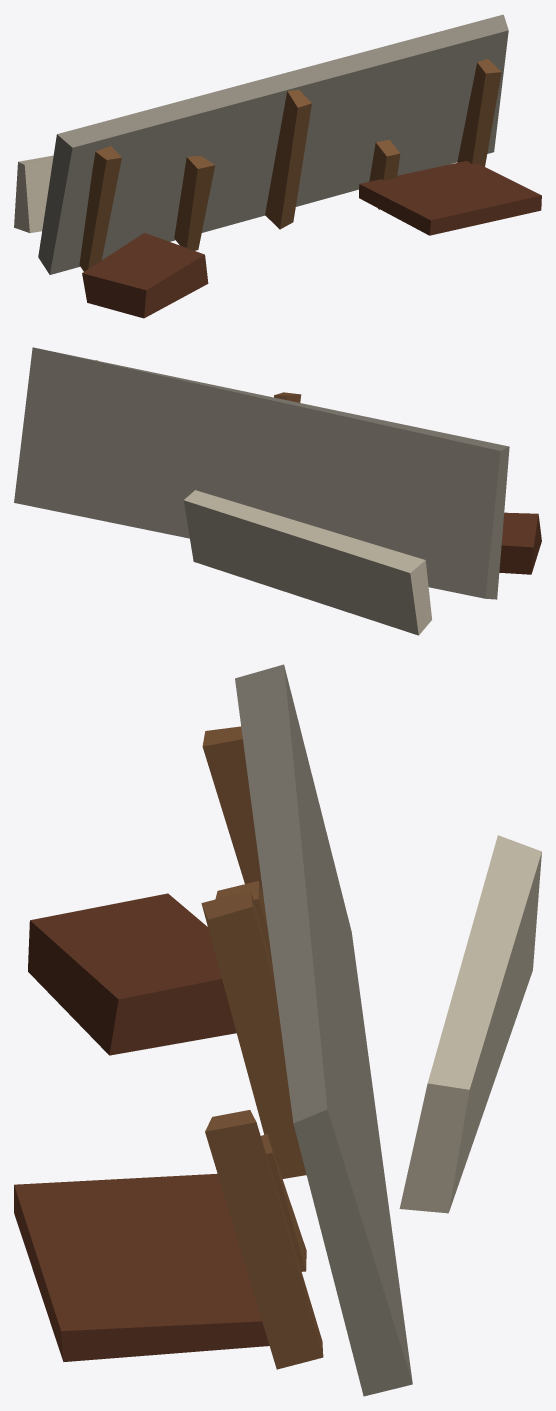
File: hull_chunk.glb
3 views of the same model, one above another, from view 1: azimuth 30°, elevation 25°; view 2: azimuth 150°, elevation 25°; view 3: azimuth 270°, elevation 25° (orthographic). The views are drawn at different scales.
Visible parts, largest first — view 1: hull_chunk; view 2: hull_chunk; view 3: hull_chunk.
Part boxes in pixels (<box>): hull_chunk: <box>14,14,541,318</box>; hull_chunk: <box>14,347,541,635</box>; hull_chunk: <box>14,664,541,1396</box>.
Size of the model in its own units: 11.12 by 3.43 by 5.53.
